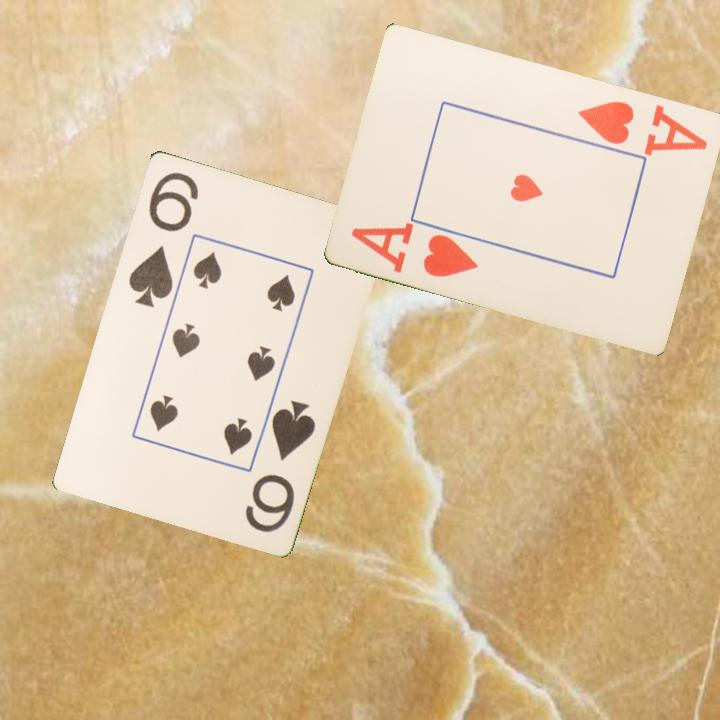6s: (124, 168, 201, 310), (241, 395, 319, 535)
Ah: (574, 97, 711, 157), (348, 221, 482, 280)
